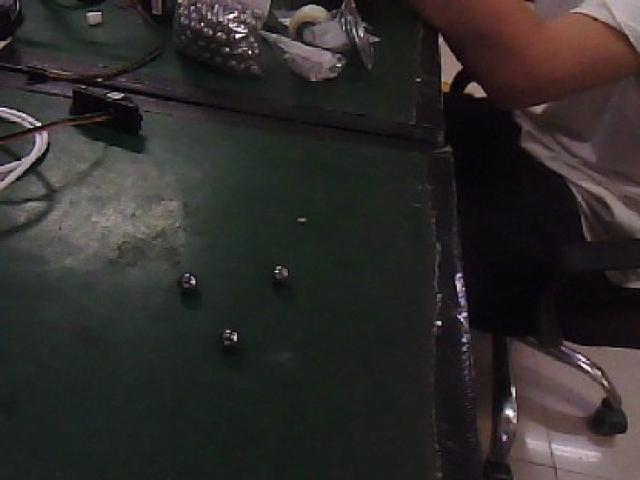steel-ball: (162, 250, 206, 304), (210, 320, 252, 352), (264, 251, 294, 283)
